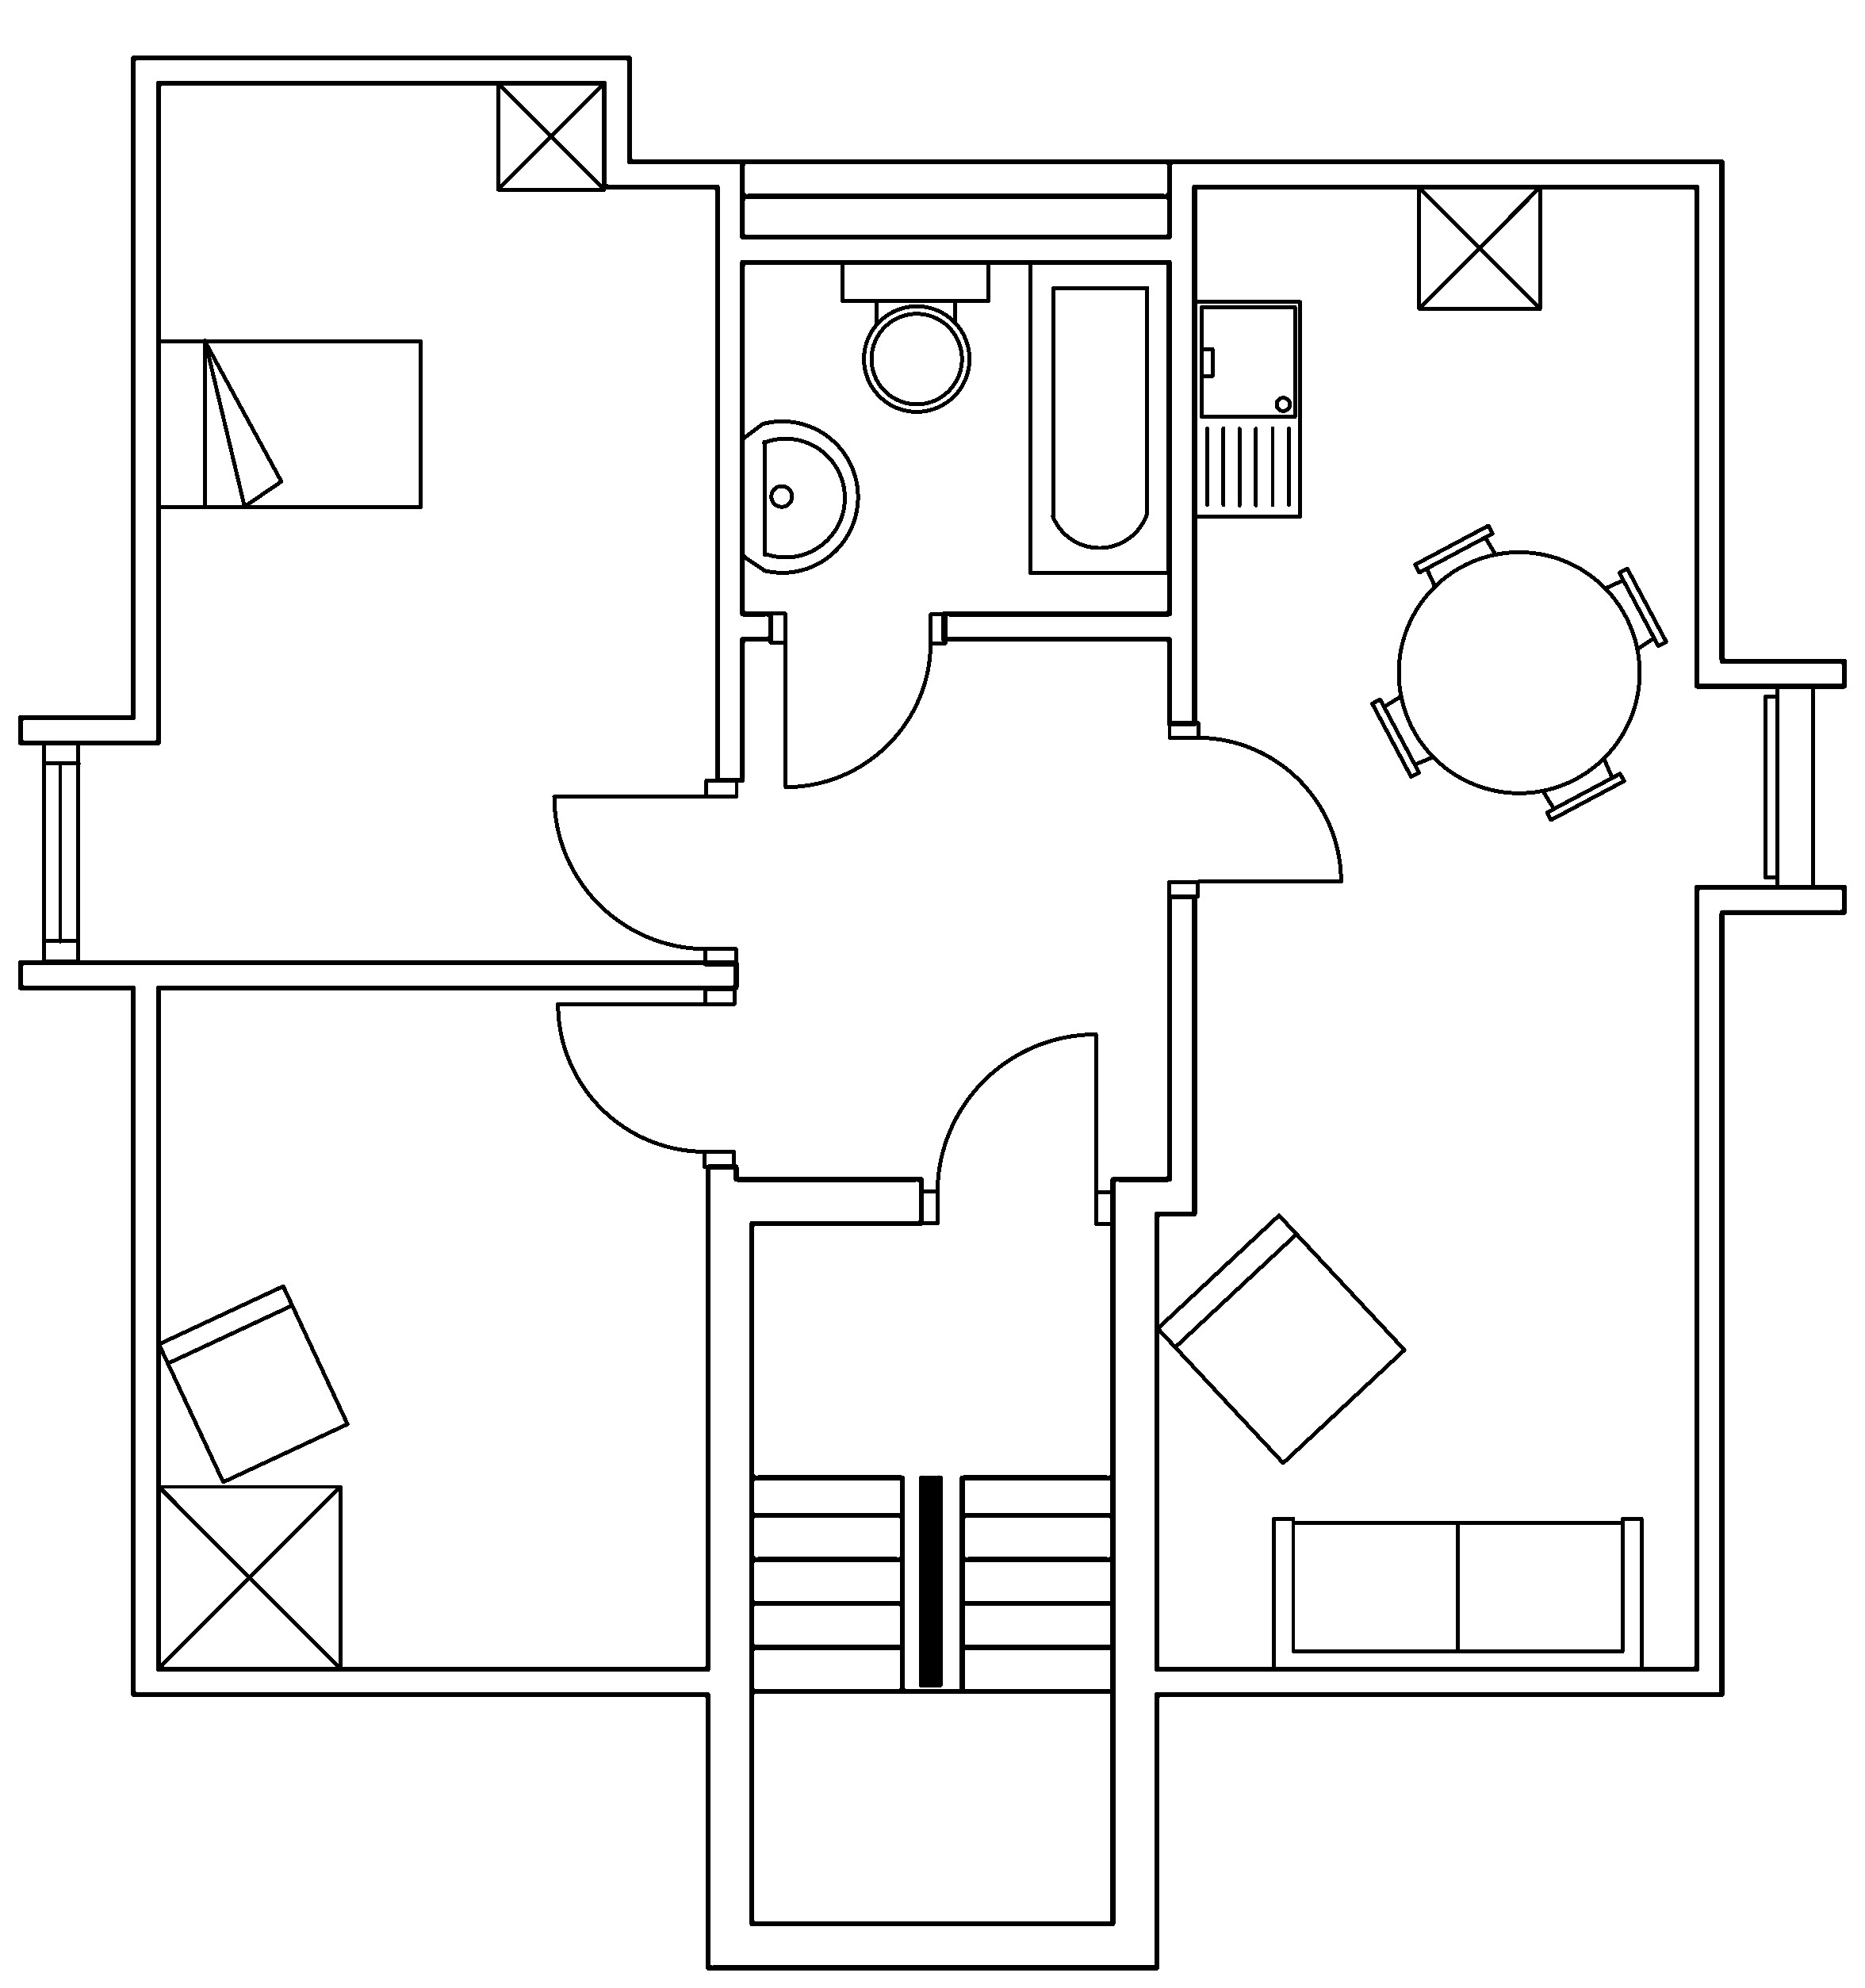bed: (154, 337, 424, 510)
coffee_table: (154, 1481, 342, 1671), (1416, 182, 1542, 310), (494, 79, 606, 191)
large_sink: (840, 258, 990, 412)
large_sofa: (1271, 1515, 1644, 1672)
round_table: (1369, 522, 1669, 822)
sink: (1192, 298, 1302, 519)
small_sink: (740, 419, 859, 573)
small_sofa: (1153, 1211, 1408, 1466), (156, 1282, 351, 1485)
tub: (1027, 258, 1171, 575)
